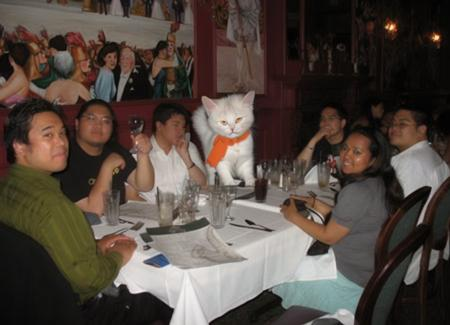cat: (189, 92, 257, 185)
chair: (273, 233, 439, 325), (370, 182, 433, 250)
diningtable: (81, 191, 329, 322)
person: (3, 97, 148, 325), (272, 127, 397, 318), (68, 99, 154, 212), (135, 102, 203, 198), (385, 109, 450, 182), (293, 106, 348, 175)
